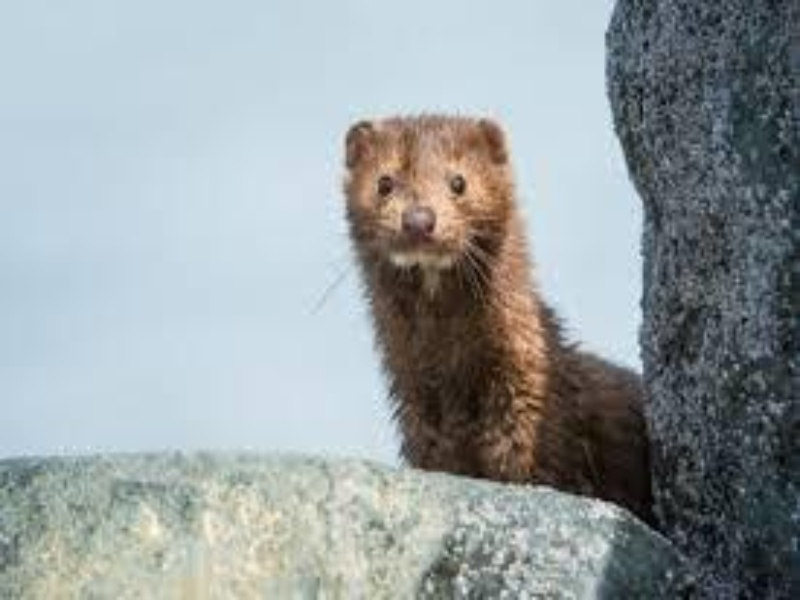minkish: (338, 109, 671, 524)
